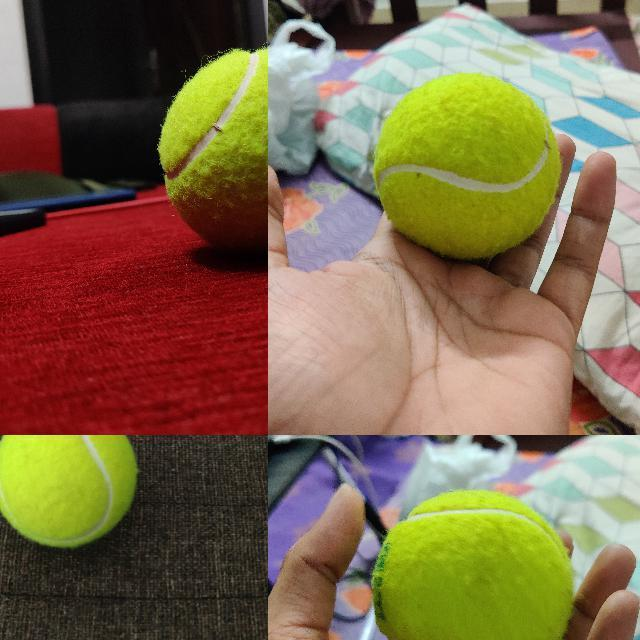tennis-ball: (371, 71, 563, 260), (370, 489, 575, 639), (155, 45, 267, 255), (0, 435, 138, 548)
